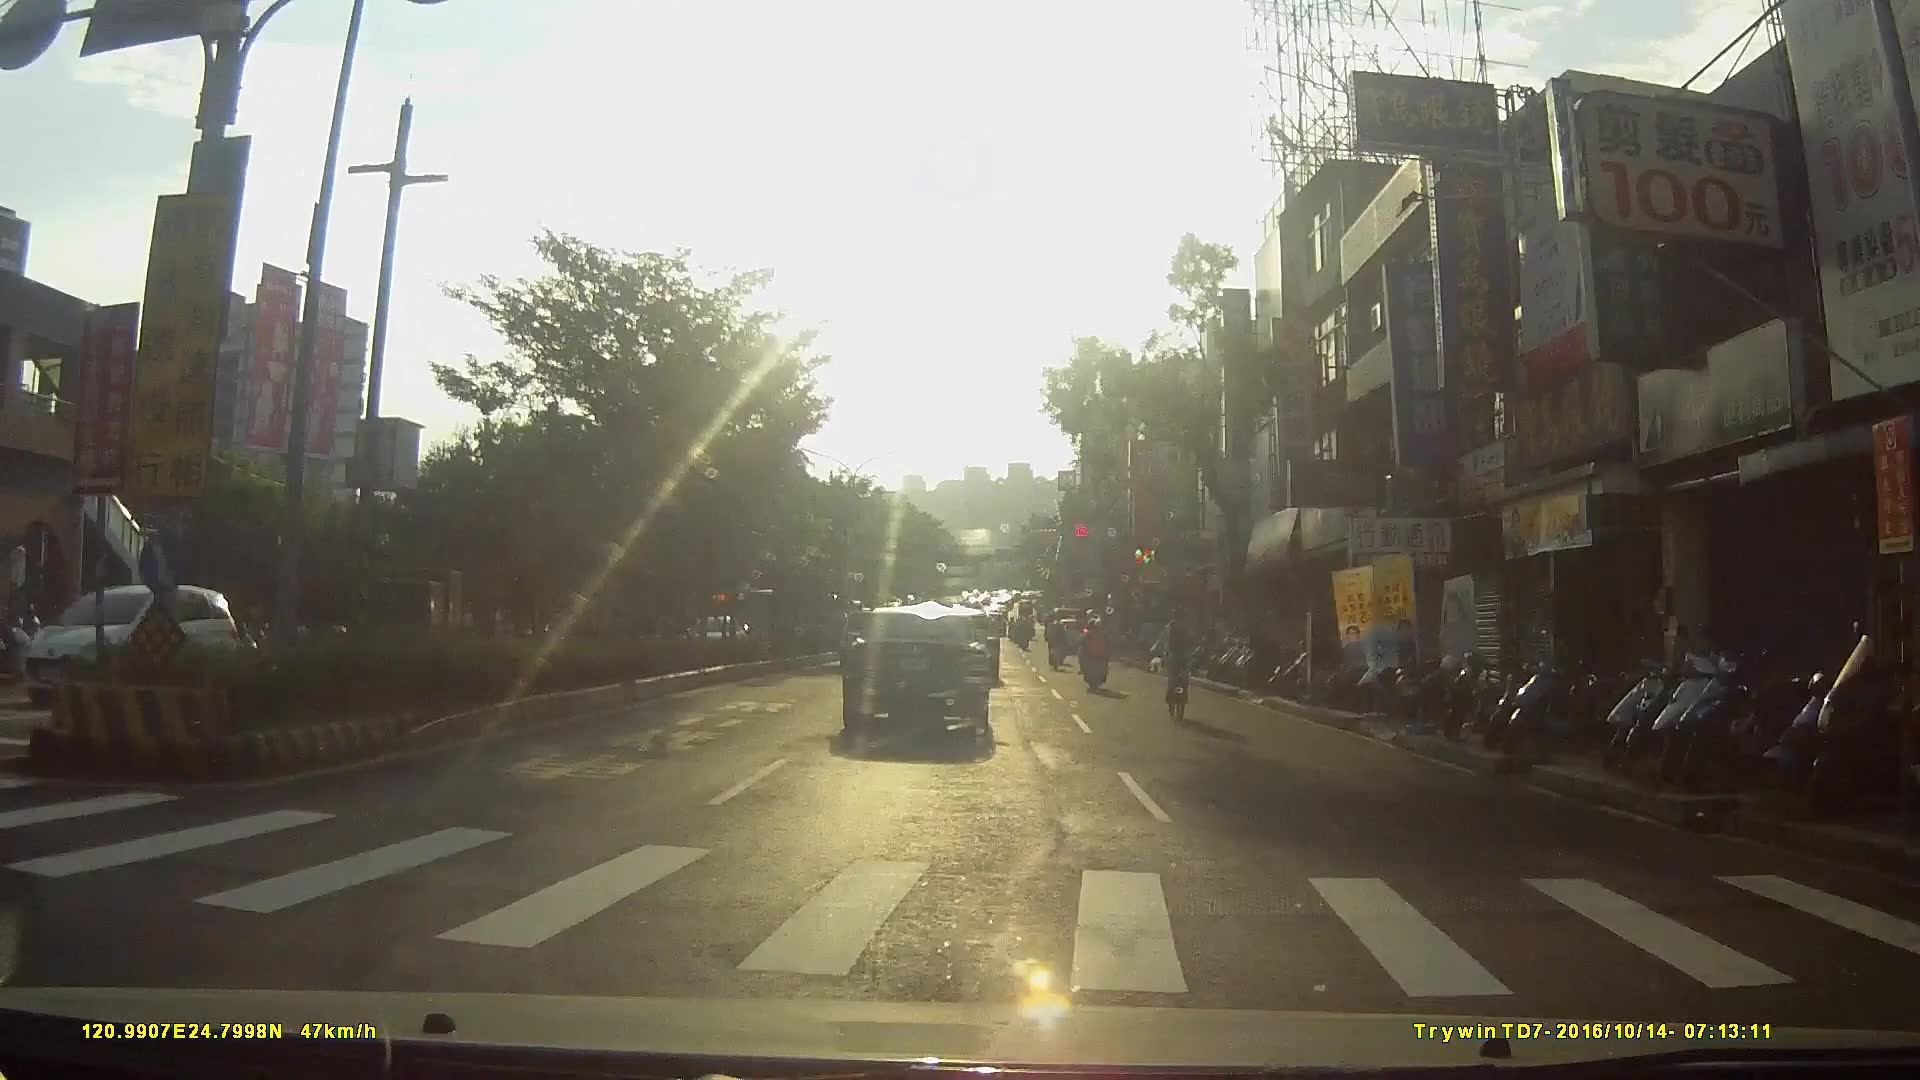rider: (1151, 601, 1205, 719), (1080, 614, 1113, 689), (1045, 620, 1069, 672)
vehicle: (31, 583, 238, 707), (841, 606, 1003, 751)
